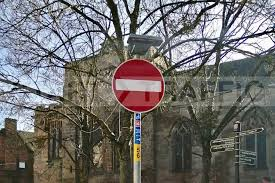No entry: (112, 59, 164, 111)
